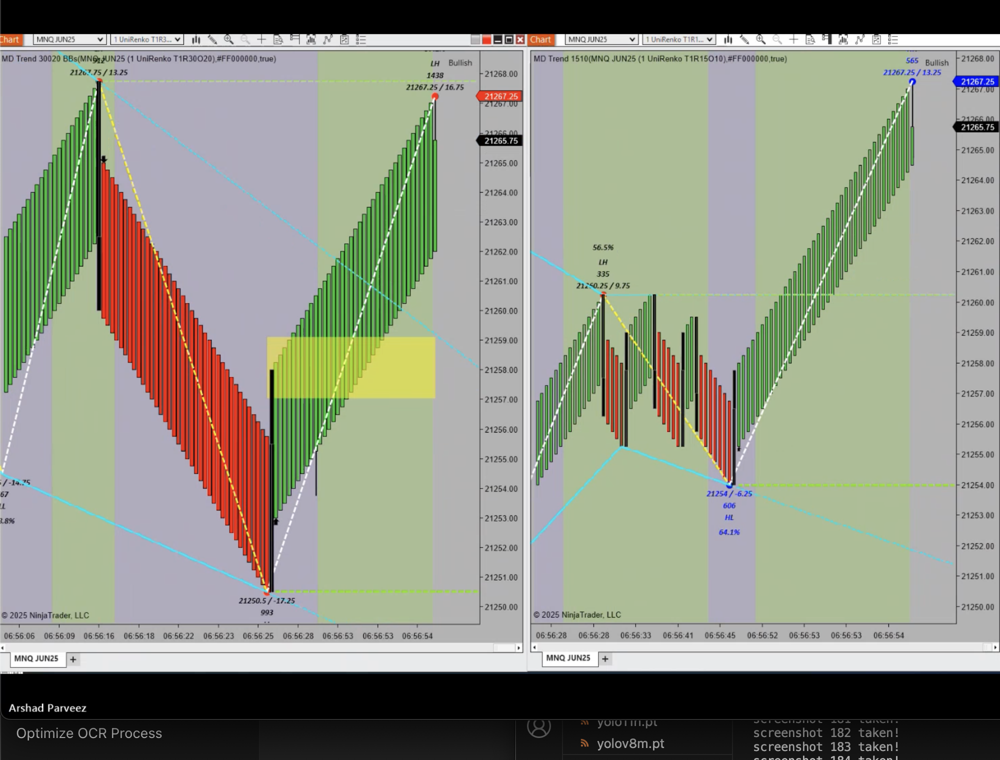HL: (719, 509, 746, 529)
LH: (591, 252, 617, 271), (427, 56, 449, 72)
